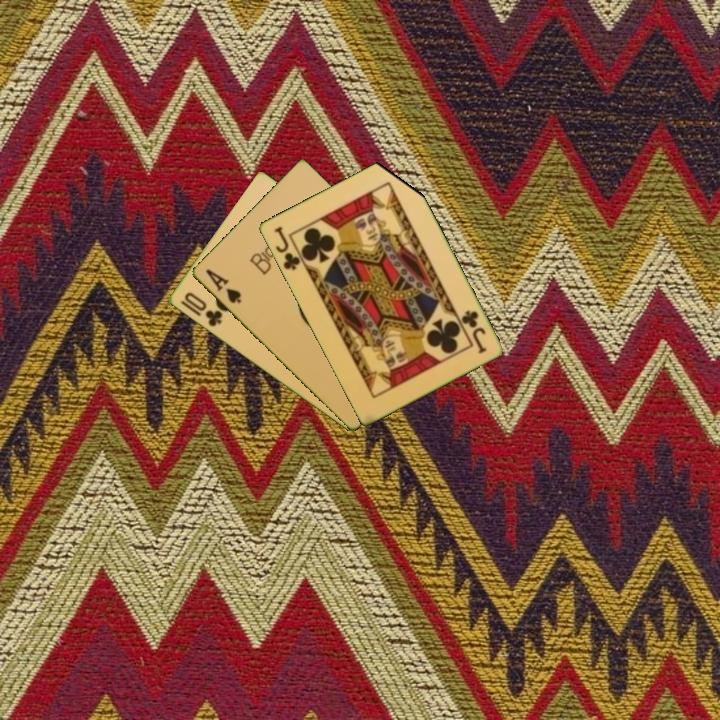10c: (180, 288, 225, 330)
As: (202, 265, 244, 307)
Jc: (270, 223, 307, 273), (457, 307, 489, 356)
